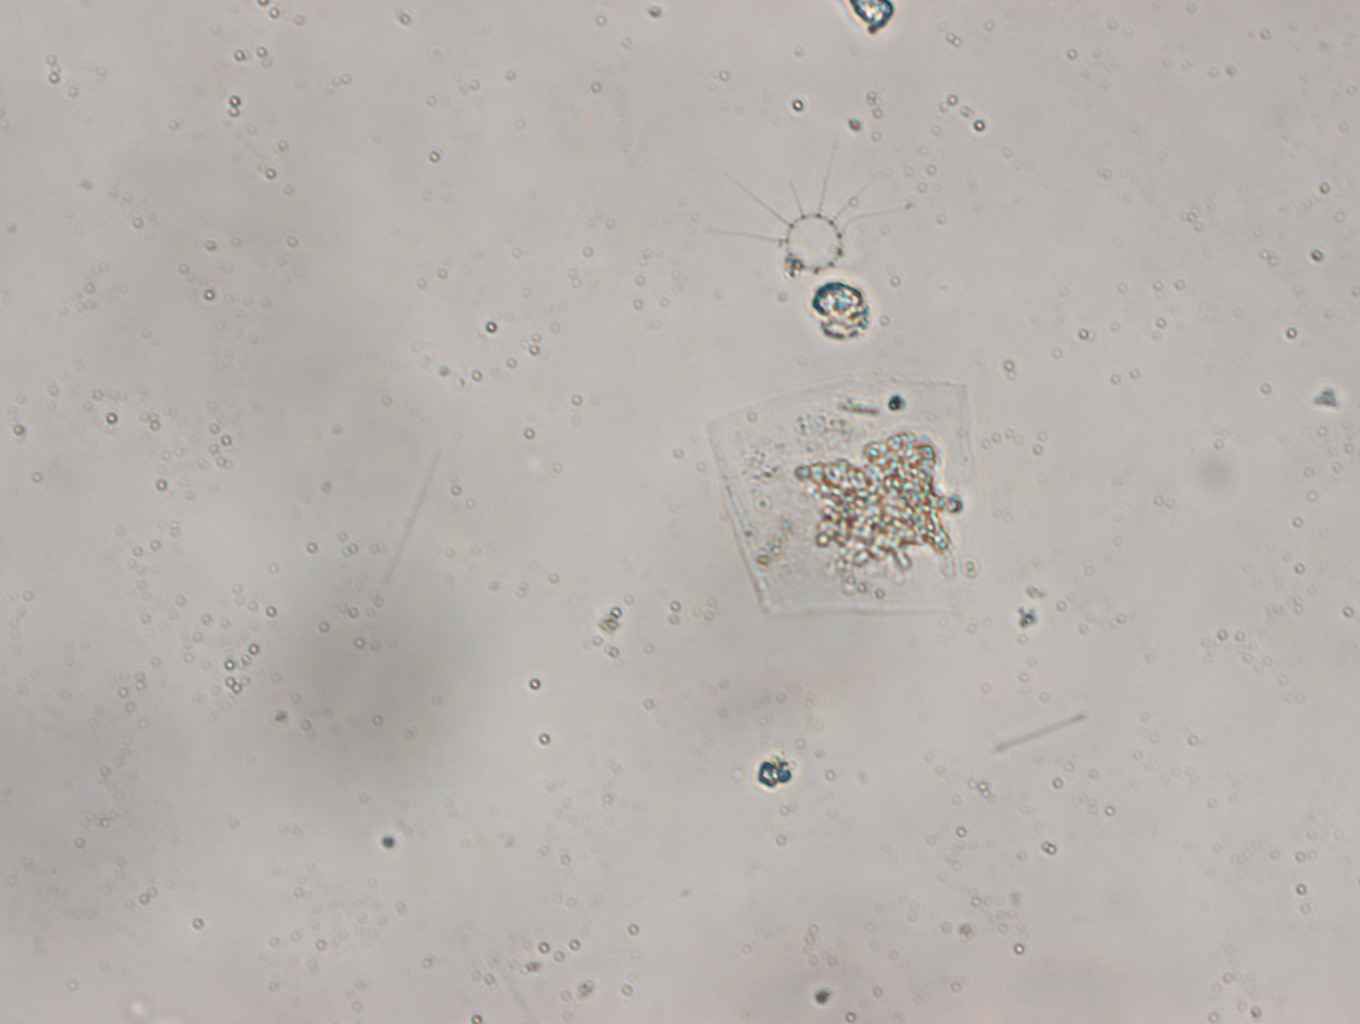bacteriastrum: (705, 153, 918, 275)
helicotheca: (702, 375, 977, 621)
